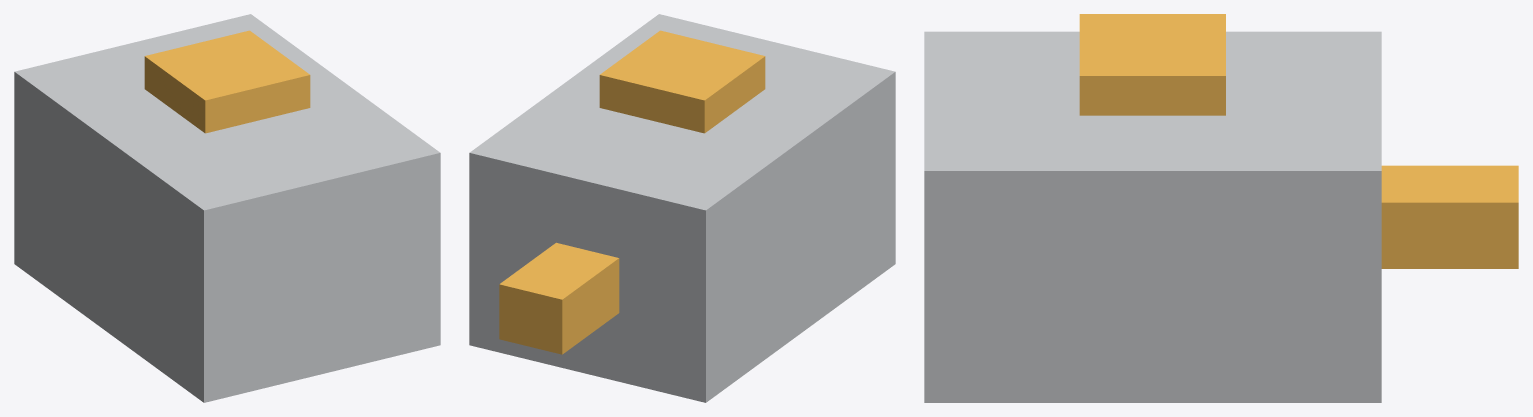
Rendered from art_i00.glb.
3 renders of one model, left to right at view 1: azimuth 30°, elevation 25°; view 2: azimuth 150°, elevation 25°; view 3: azimuth 270°, elevation 25°, orthographic. The views are drawn at different scales.
Visible parts, largest first — view 1: Body, WorkPart; view 2: Body, WorkPart, ForwardMarker; view 3: Body, WorkPart, ForwardMarker.
Part boxes in pixels (box(x1,y1,x2,y2)): Body: box(14, 14, 440, 402); WorkPart: box(144, 30, 310, 133); Body: box(469, 14, 895, 402); WorkPart: box(599, 30, 765, 133); ForwardMarker: box(499, 242, 619, 354); Body: box(924, 31, 1381, 402); WorkPart: box(1079, 14, 1225, 115); ForwardMarker: box(1381, 165, 1518, 268).
Bounding box in the file's own units: 0.9 × 0.87 × 1.62.
